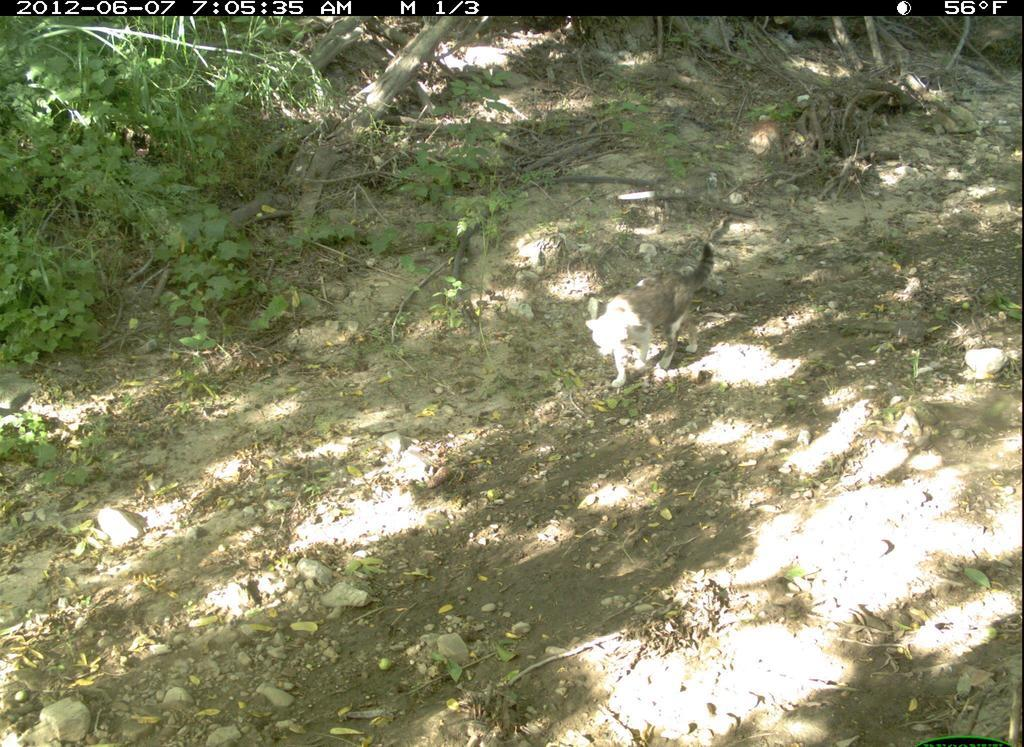cat: (569, 235, 740, 399)
